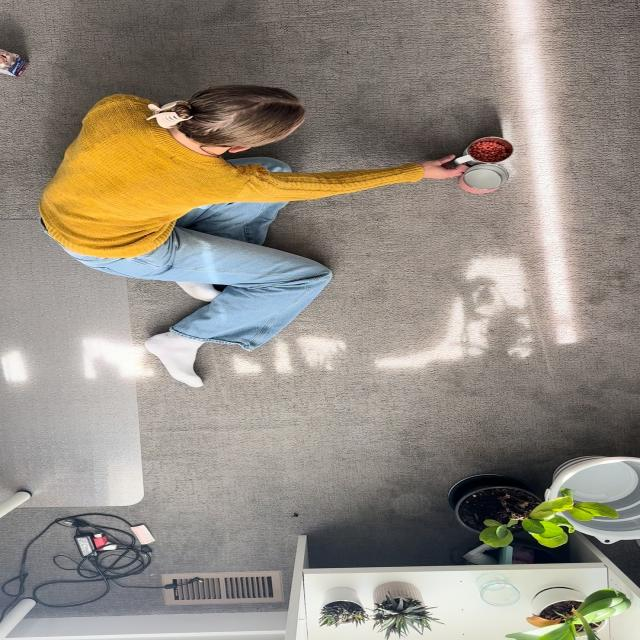IBC: (459, 163, 508, 194), (465, 138, 512, 164)
